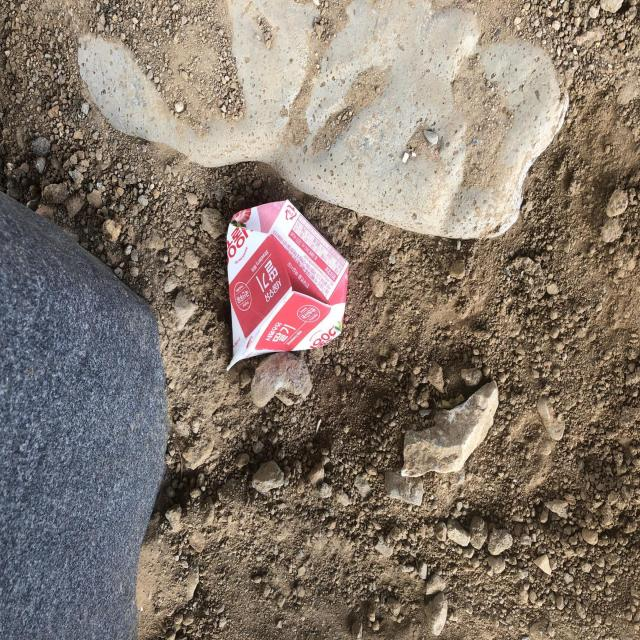paperpack: (226, 200, 349, 369)
